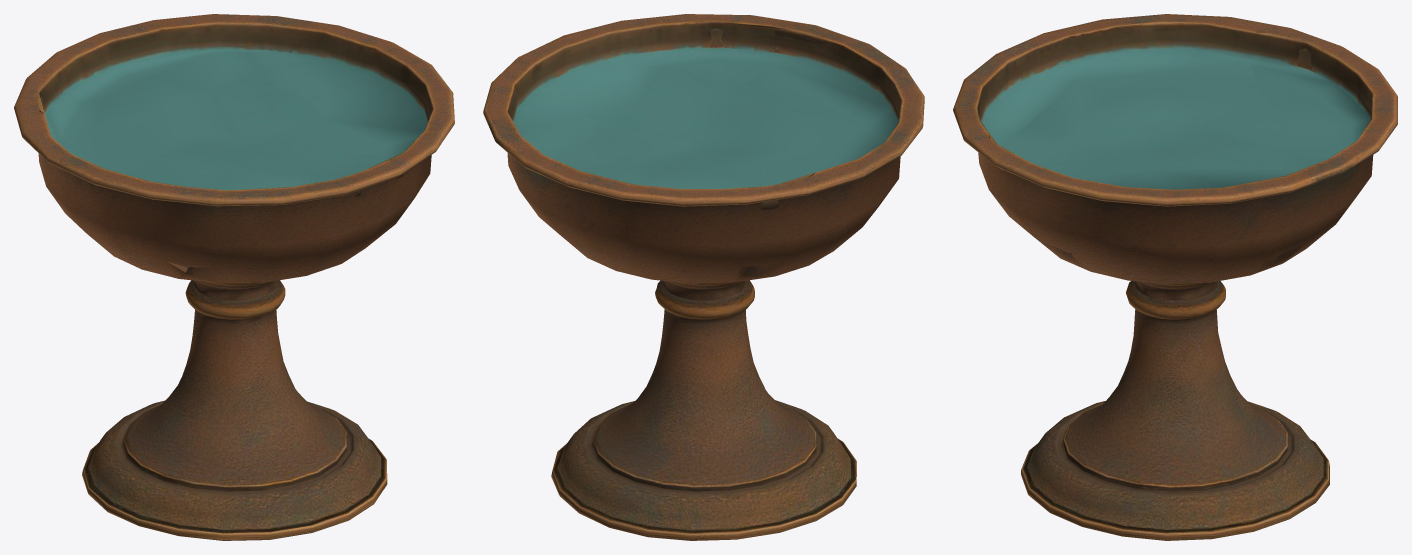
File: sanctuary-laver-tripo-v31-v1.glb
3 views of the same model, side by side, from view 1: azimuth 30°, elevation 25°; view 2: azimuth 150°, elevation 25°; view 3: azimuth 270°, elevation 25° (orthographic).
Parts seen in each view (by area): view 1: tripo_node_237f35b2-58ee-48ee-925d-973e39766eca; view 2: tripo_node_237f35b2-58ee-48ee-925d-973e39766eca; view 3: tripo_node_237f35b2-58ee-48ee-925d-973e39766eca.
Part boxes in pixels (bbox=[...]): tripo_node_237f35b2-58ee-48ee-925d-973e39766eca: bbox=[14, 14, 454, 540]; tripo_node_237f35b2-58ee-48ee-925d-973e39766eca: bbox=[483, 14, 924, 540]; tripo_node_237f35b2-58ee-48ee-925d-973e39766eca: bbox=[953, 14, 1397, 540].
Size of the model in its own units: 0.9961 by 0.9198 by 0.998.
Materials: 1 (1 with a texture image).
